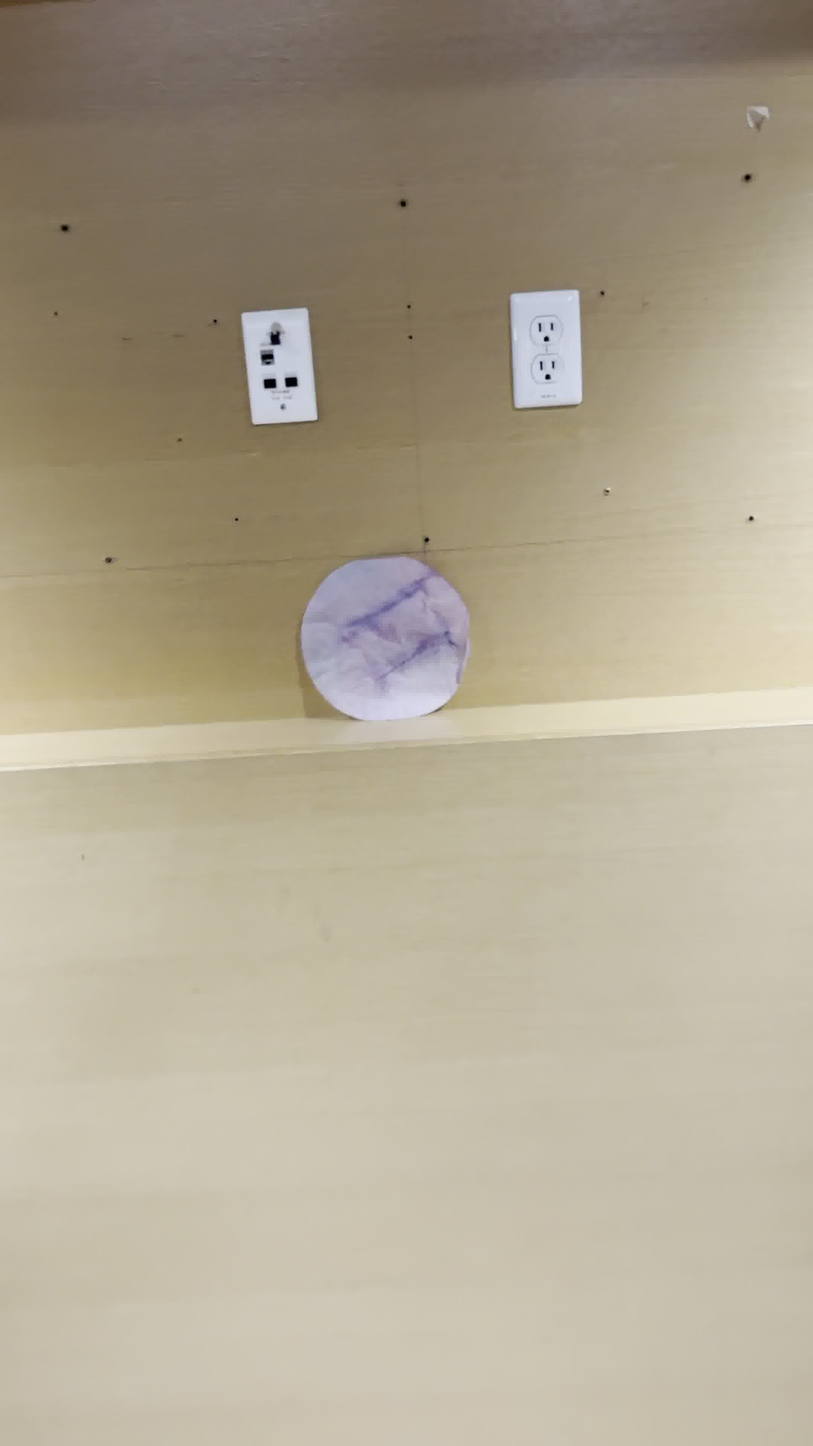Target: (292, 552, 467, 723)
